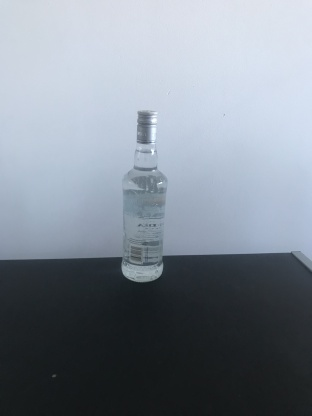nakretka: (134, 109, 159, 143)
